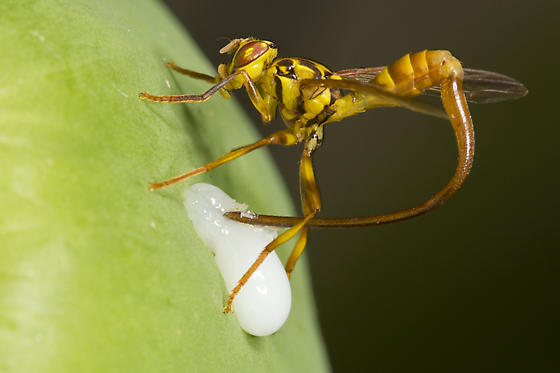Fruit fly: (134, 23, 497, 259)
